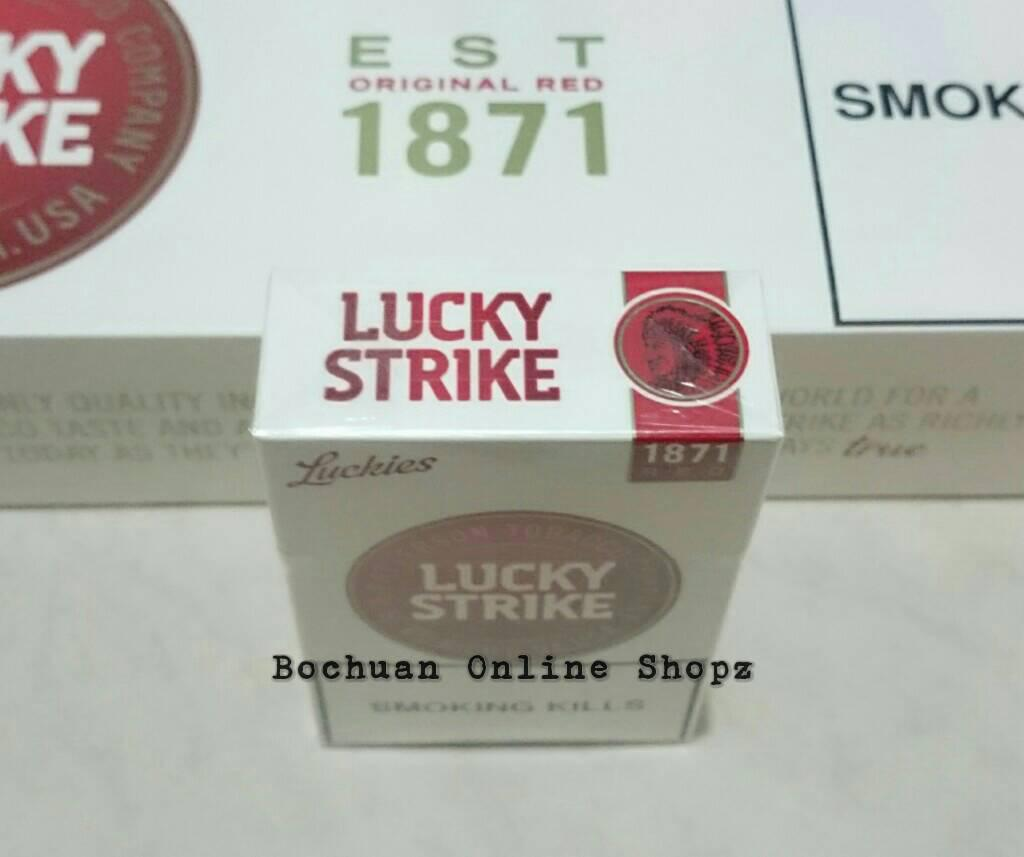lucky_strike_red: (310, 436, 693, 743)
